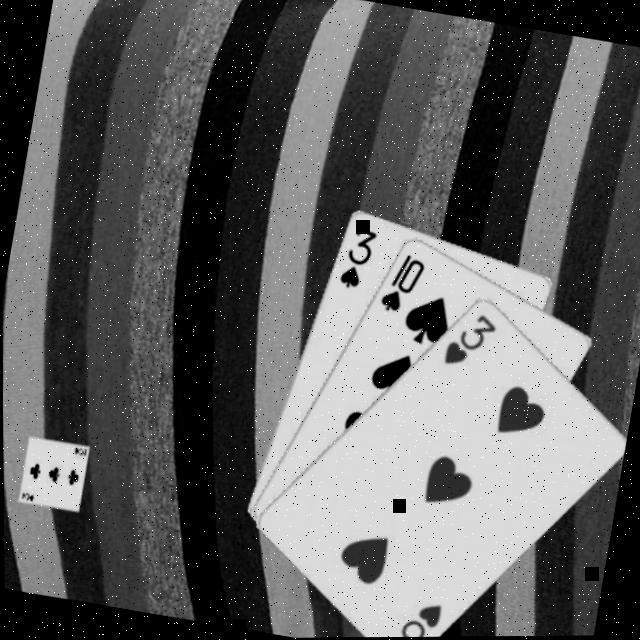10S: (372, 248, 427, 320)
3H: (435, 307, 499, 376), (379, 594, 442, 637)
3S: (332, 222, 377, 295)
